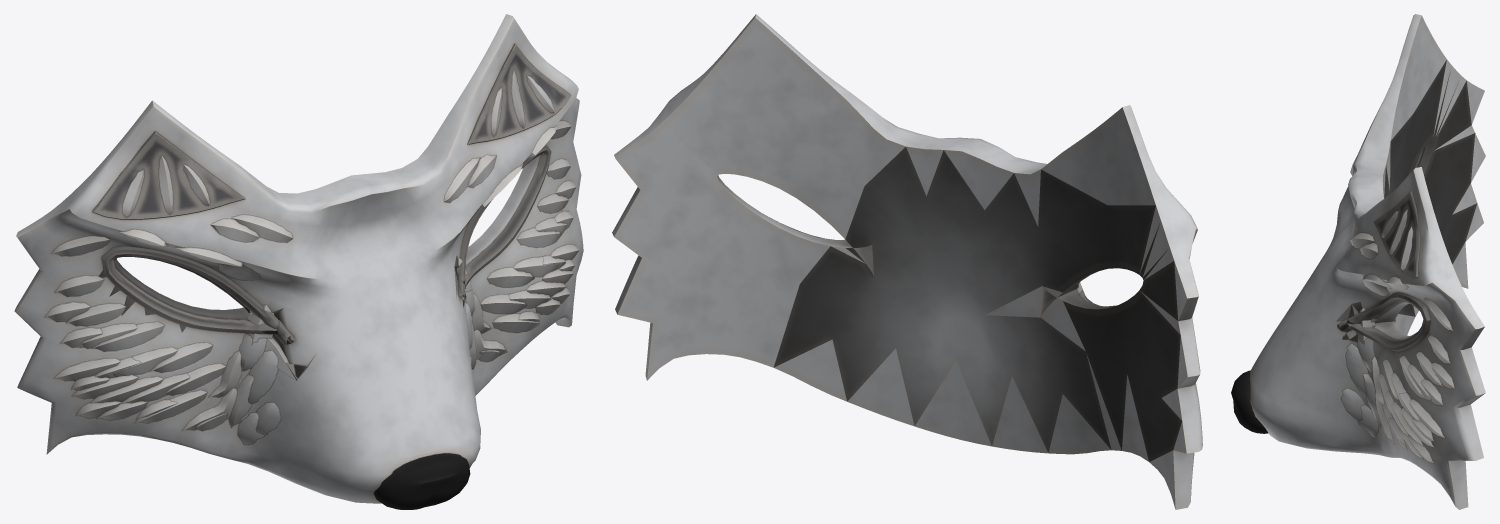
Rendered from NHAcc_WolfMask.fbx.
3 views of the same model, side by side, from view 1: azimuth 30°, elevation 25°; view 2: azimuth 150°, elevation 25°; view 3: azimuth 270°, elevation 25° (orthographic). The views are drawn at different scales.
Visible parts, largest first — view 1: WolfMask; view 2: WolfMask; view 3: WolfMask.
Boxes of the visible parts, <box> form: WolfMask: <box>14,14,583,509</box>; WolfMask: <box>612,14,1202,509</box>; WolfMask: <box>1231,14,1485,509</box>.
Bounding box in the file's own units: 0.8124 × 0.5242 × 0.3613.
1 material, 1 textured.
